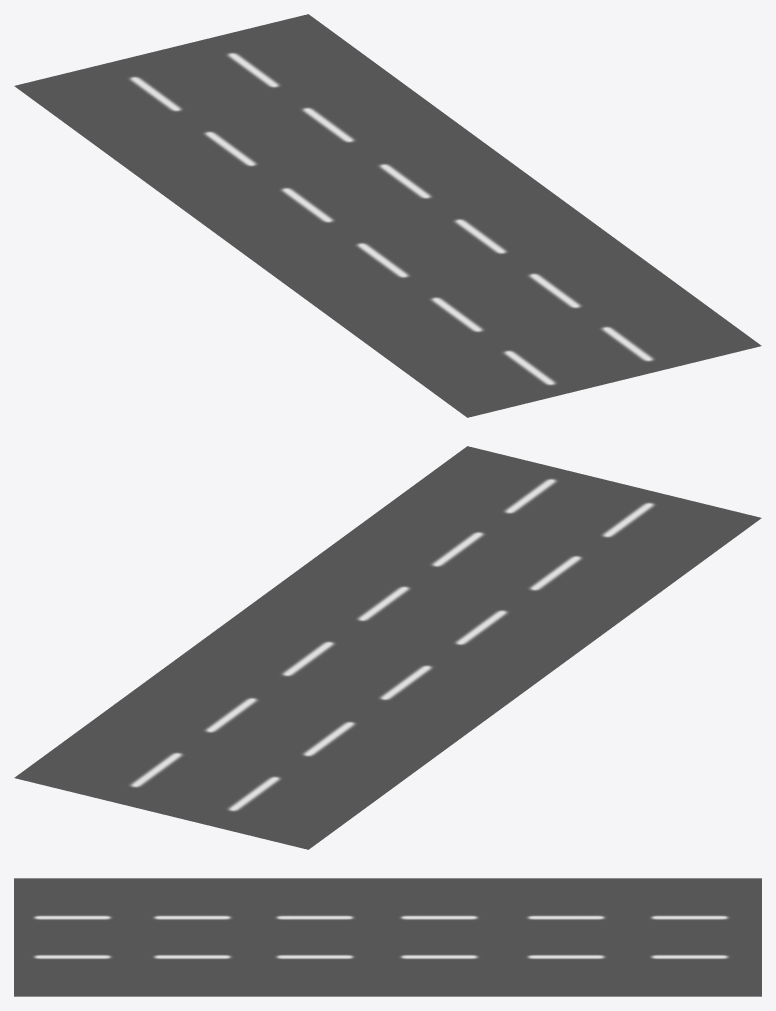
File: road.fbx
The picture shows the model from 3 angles, top to bottom: view 1: azimuth 30°, elevation 25°; view 2: azimuth 150°, elevation 25°; view 3: azimuth 270°, elevation 25°; orthographic projection. The views are drawn at different scales.
Parts seen in each view (by area): view 1: pPlane1; view 2: pPlane1; view 3: pPlane1.
Part boxes in pixels (x1=…): pPlane1: x1=14, y1=14, x2=761, y2=417; pPlane1: x1=14, y1=446, x2=761, y2=849; pPlane1: x1=14, y1=878, x2=761, y2=996.
Bounding box in the file's own units: 3 × 0 × 8.
Materials: 1 (1 with a texture image).
